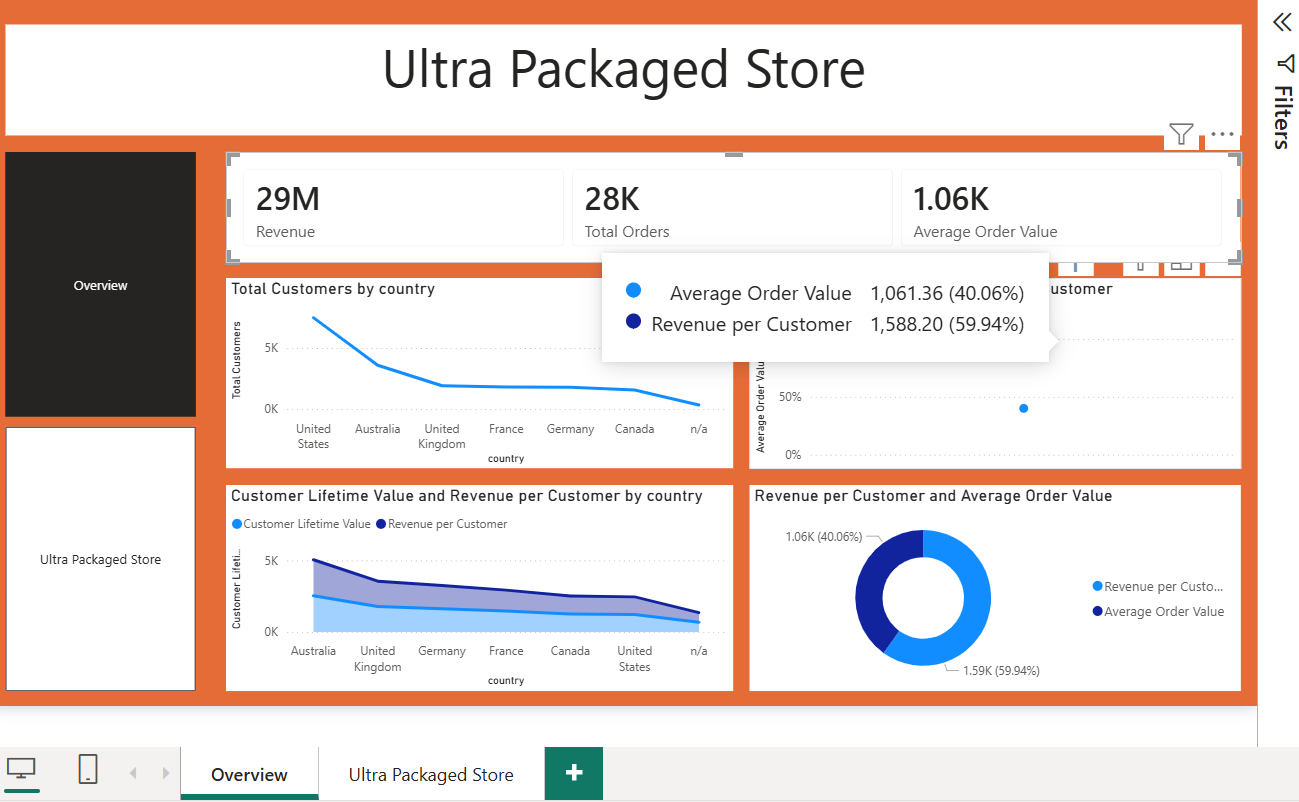

Layout of this report page (visuals, bound fields, positions):
{"tool":"powerbi","page":{"name":"Overview","canvas":[1280,720],"ordinal":0},"visuals":[{"type":"cardVisual","fields":{"Data":["_measures.Revenue","_measures.Total Orders","_measures.Average Order Value"]},"box":[224,160,1040,112],"z":0},{"type":"textbox","box":[16,32,1248,112],"z":1000},{"type":"pageNavigator","box":[16,160,192,544],"z":2000},{"type":"lineChart","fields":{"Y":["_measures.Total Customers"],"Category":["gold dim_customers.country"]},"box":[240,288,512,192],"z":3000},{"type":"stackedAreaChart","fields":{"Y":["_measures.Customer Lifetime Value","_measures.Revenue per Customer"],"Category":["gold dim_customers.country"]},"box":[240,496,512,208],"z":4000},{"type":"donutChart","fields":{"Y":["_measures.Revenue per Customer","_measures.Average Order Value"]},"box":[768,496,496,208],"z":5000},{"type":"hundredPercentStackedAreaChart","fields":{"Y":["_measures.Average Order Value","_measures.Revenue per Customer"]},"box":[768,288,496,192],"z":6000}]}

Visuals, with their boxes in screenshot pixels (x1, y1, x2, y2):
cardVisual - _measures.Revenue x _measures.Total Orders: crop(207, 147, 1248, 259)
textbox: crop(0, 18, 1248, 131)
pageNavigator: crop(0, 147, 191, 691)
lineChart - _measures.Total Customers x gold dim_customers.country: crop(223, 275, 736, 467)
stackedAreaChart - _measures.Customer Lifetime Value x _measures.Revenue per Customer: crop(223, 483, 736, 691)
donutChart - _measures.Revenue per Customer x _measures.Average Order Value: crop(752, 483, 1248, 691)
hundredPercentStackedAreaChart - _measures.Average Order Value x _measures.Revenue per Customer: crop(752, 275, 1248, 467)
